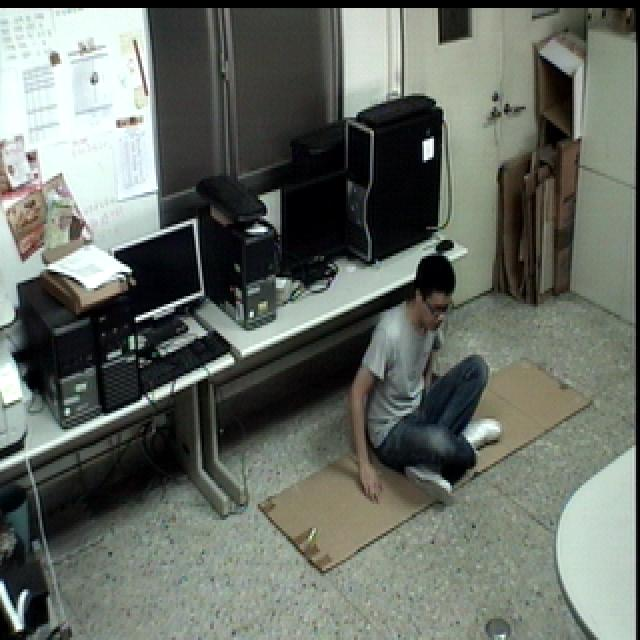sit: (350, 254, 508, 498)
